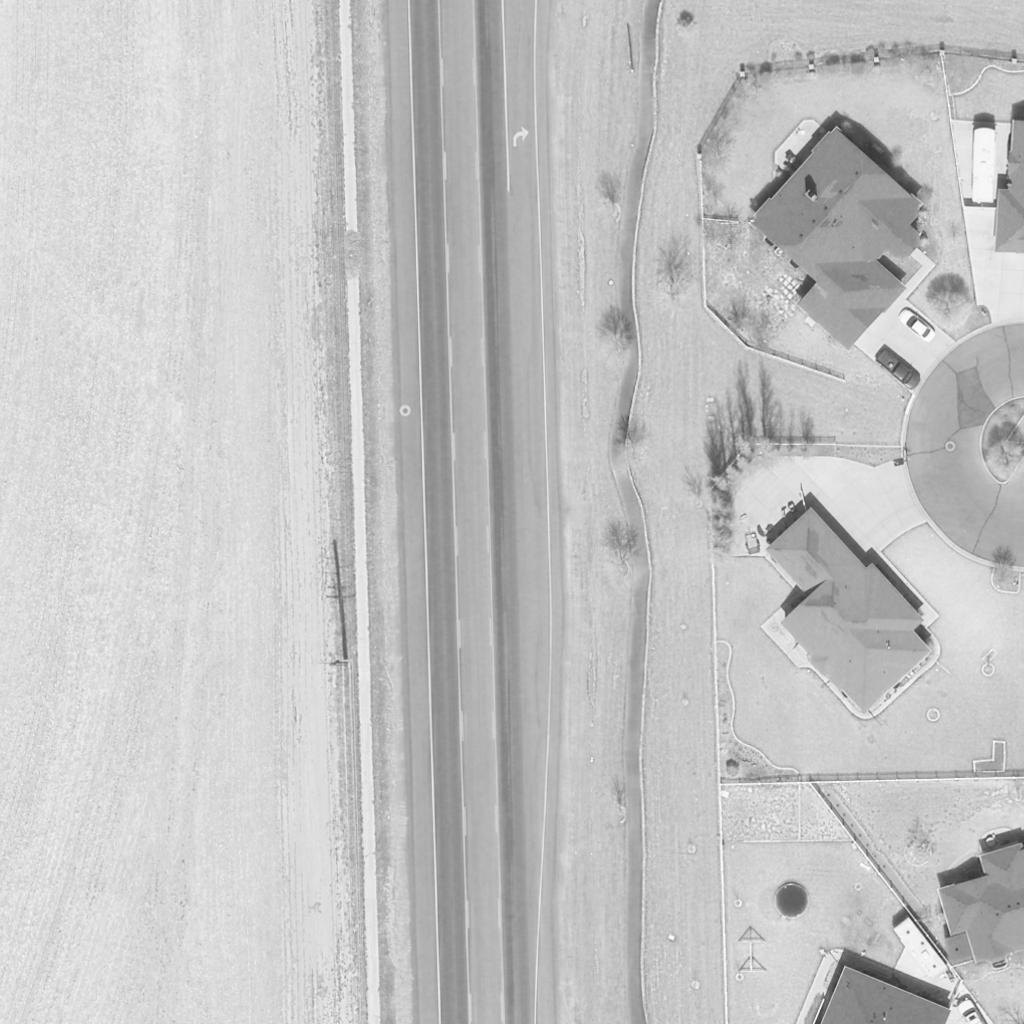vehicle: (893, 917, 949, 983), (874, 346, 922, 392), (973, 130, 997, 204), (898, 305, 936, 345), (955, 998, 991, 1024)
